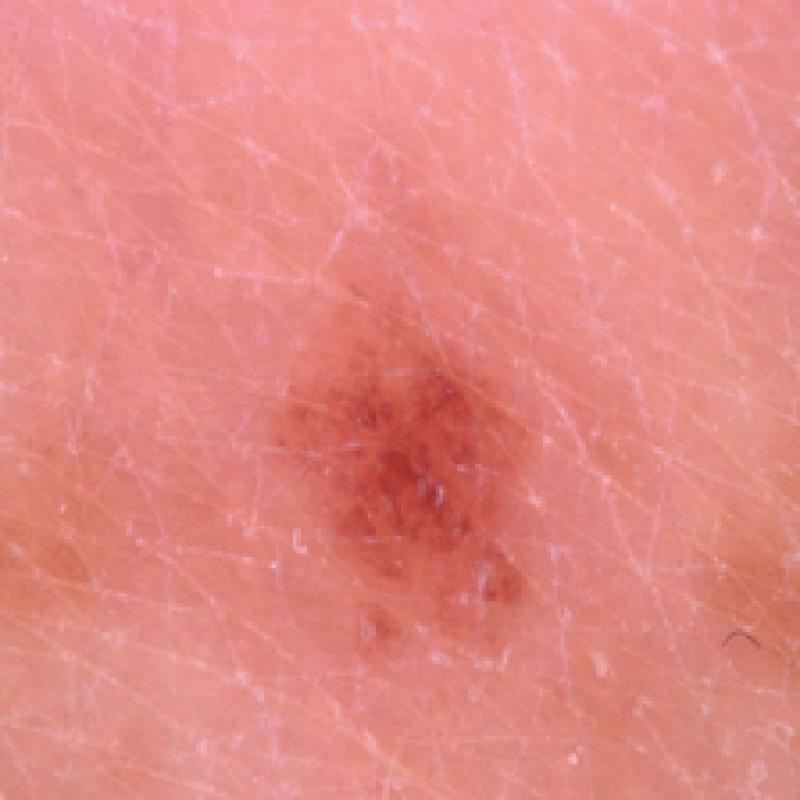benign: (270, 307, 550, 651)
